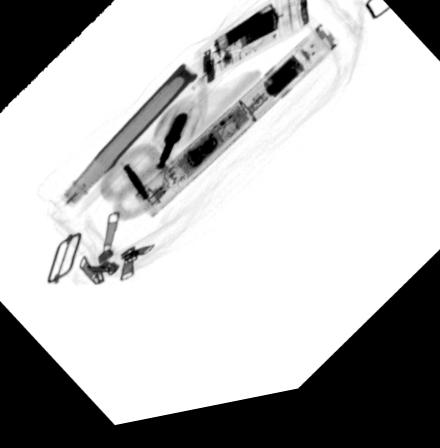Baton: (133, 33, 341, 226)
